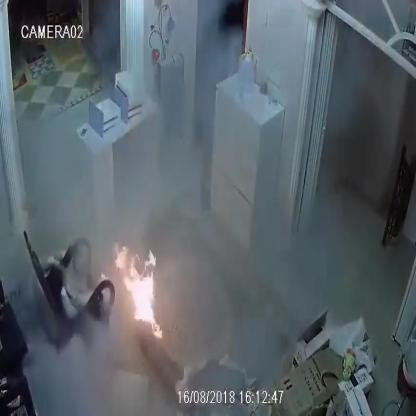fire: (115, 245, 163, 338)
